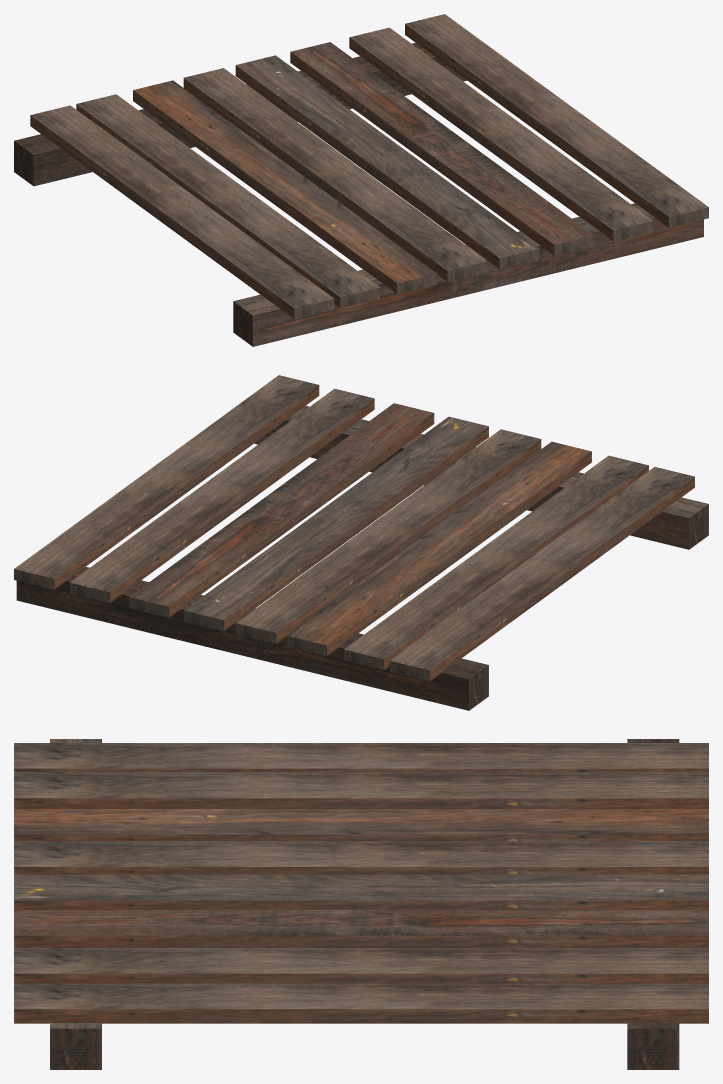
The model's file is PalletB.fbx.
3 renders of one model, top to bottom at view 1: azimuth 30°, elevation 25°; view 2: azimuth 150°, elevation 25°; view 3: azimuth 270°, elevation 25°, orthographic. The views are drawn at different scales.
Visible parts, largest first — view 1: PalletB; view 2: PalletB; view 3: PalletB.
Boxes of the visible parts, box(x1,y1,x2,y2) form: PalletB: box(14, 14, 708, 346); PalletB: box(14, 375, 708, 710); PalletB: box(14, 739, 708, 1069).
Size of the model in its own units: 93.7 by 8.3 by 95.01.
